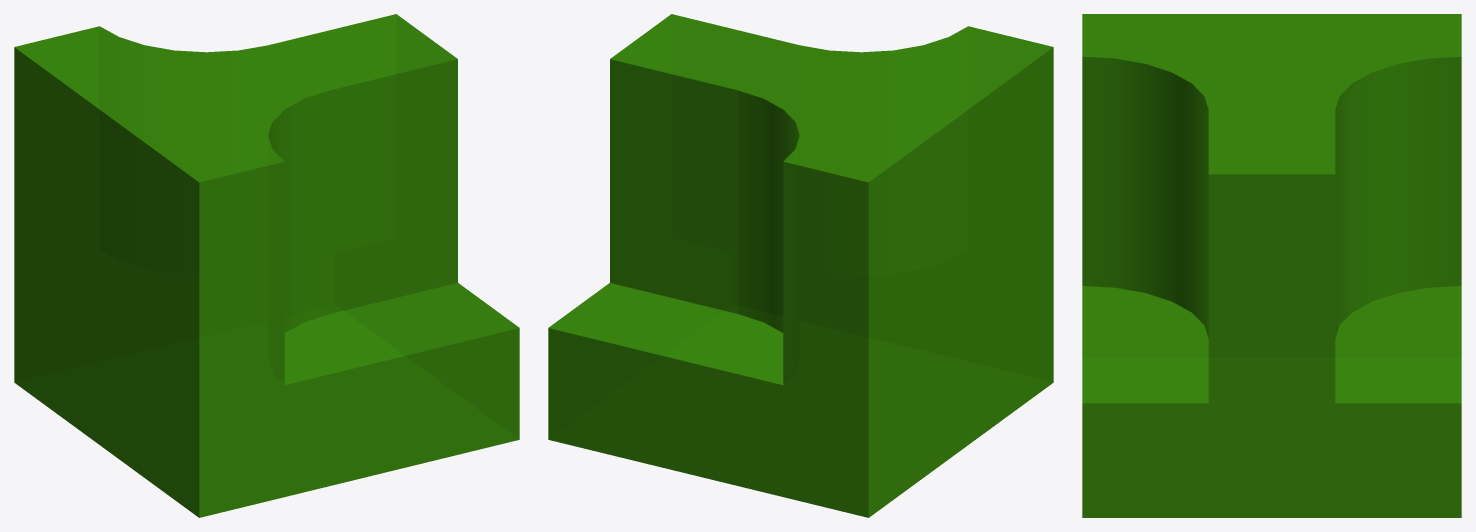
3 renders of one model, left to right at view 1: azimuth 30°, elevation 25°; view 2: azimuth 150°, elevation 25°; view 3: azimuth 270°, elevation 25°, orthographic. The views are drawn at different scales.
Visible parts, largest first — view 1: SketchUp; view 2: SketchUp; view 3: SketchUp.
Boxes of the visible parts, box(x1,y1,x2,y2) form: SketchUp: box(14, 14, 519, 517); SketchUp: box(548, 14, 1053, 517); SketchUp: box(1082, 14, 1461, 517).
Size of the model in its own units: 59.06 by 59.06 by 59.06.
